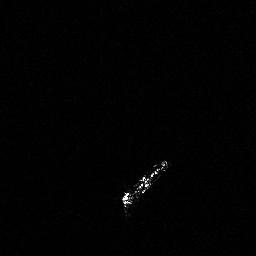ship: (118, 157, 172, 215)
